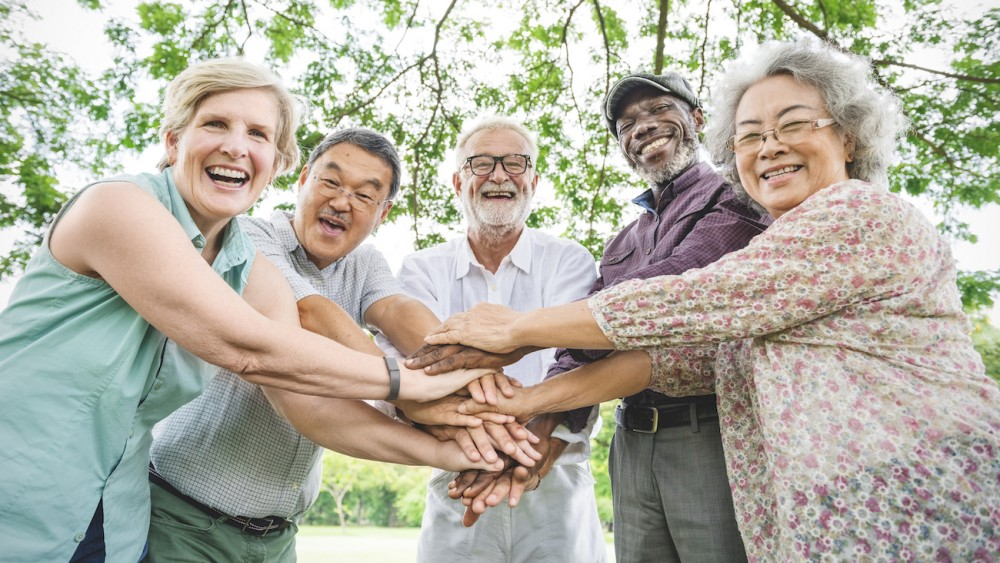without_mask: (740, 102, 828, 196), (198, 106, 274, 206), (319, 159, 382, 256), (466, 148, 532, 224), (620, 94, 682, 163)
